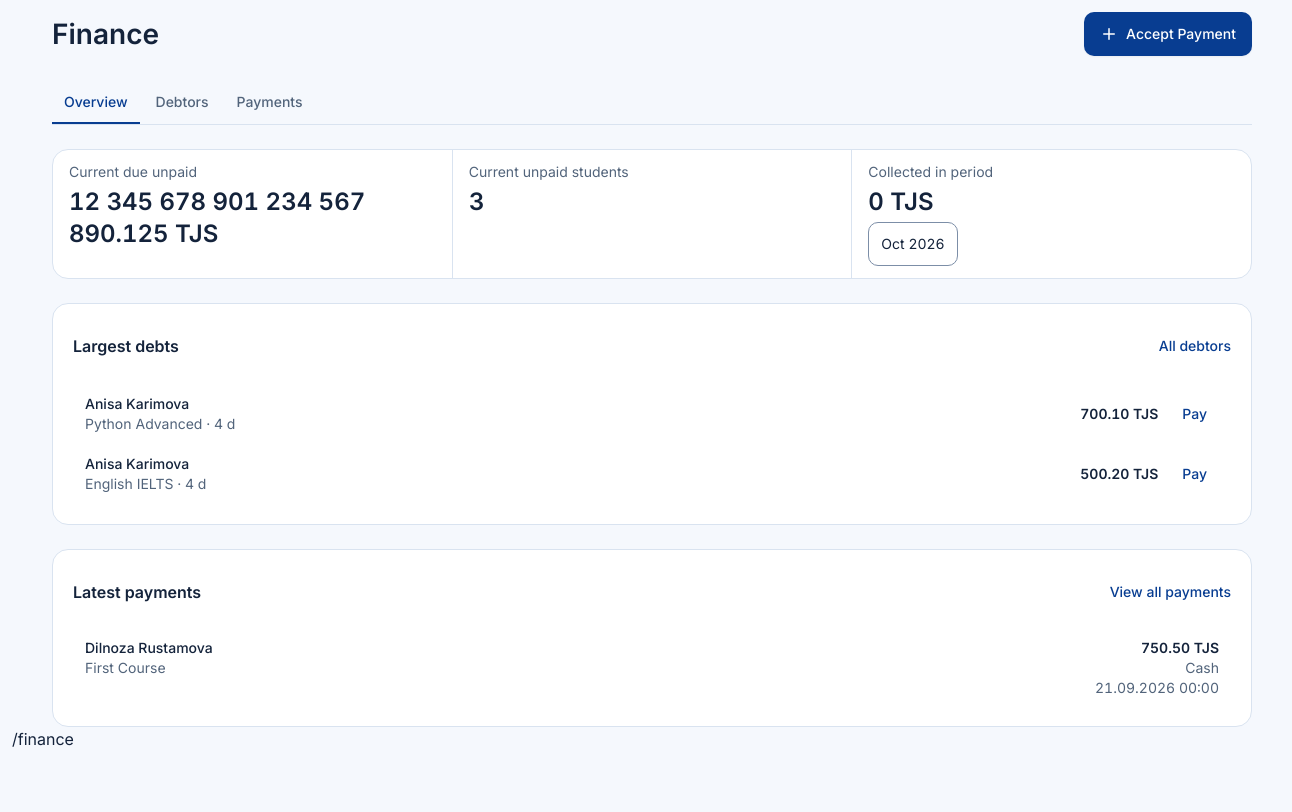
Test: Finance overview › opens Debtors and Payments from the preview footers
What coordinates should you click on to do the following:
click the button with aria-label "Open the debtors tab"
I would click on:
 (1195, 346)
Its box is x1=1159 y1=324 x2=1231 y2=368.
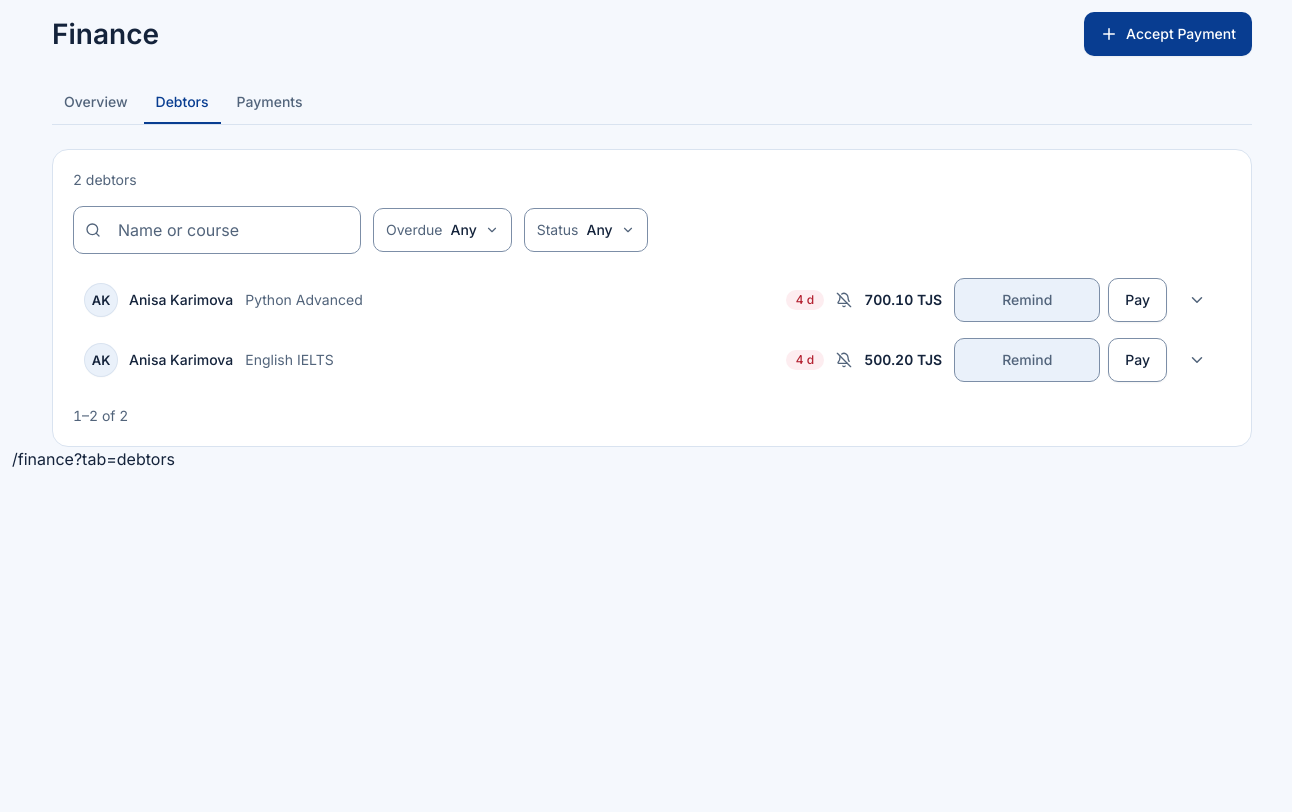
Check: the text with test id "location" reads "/finance?tab=debtors", box x1=12 y1=449 x2=175 y2=469
